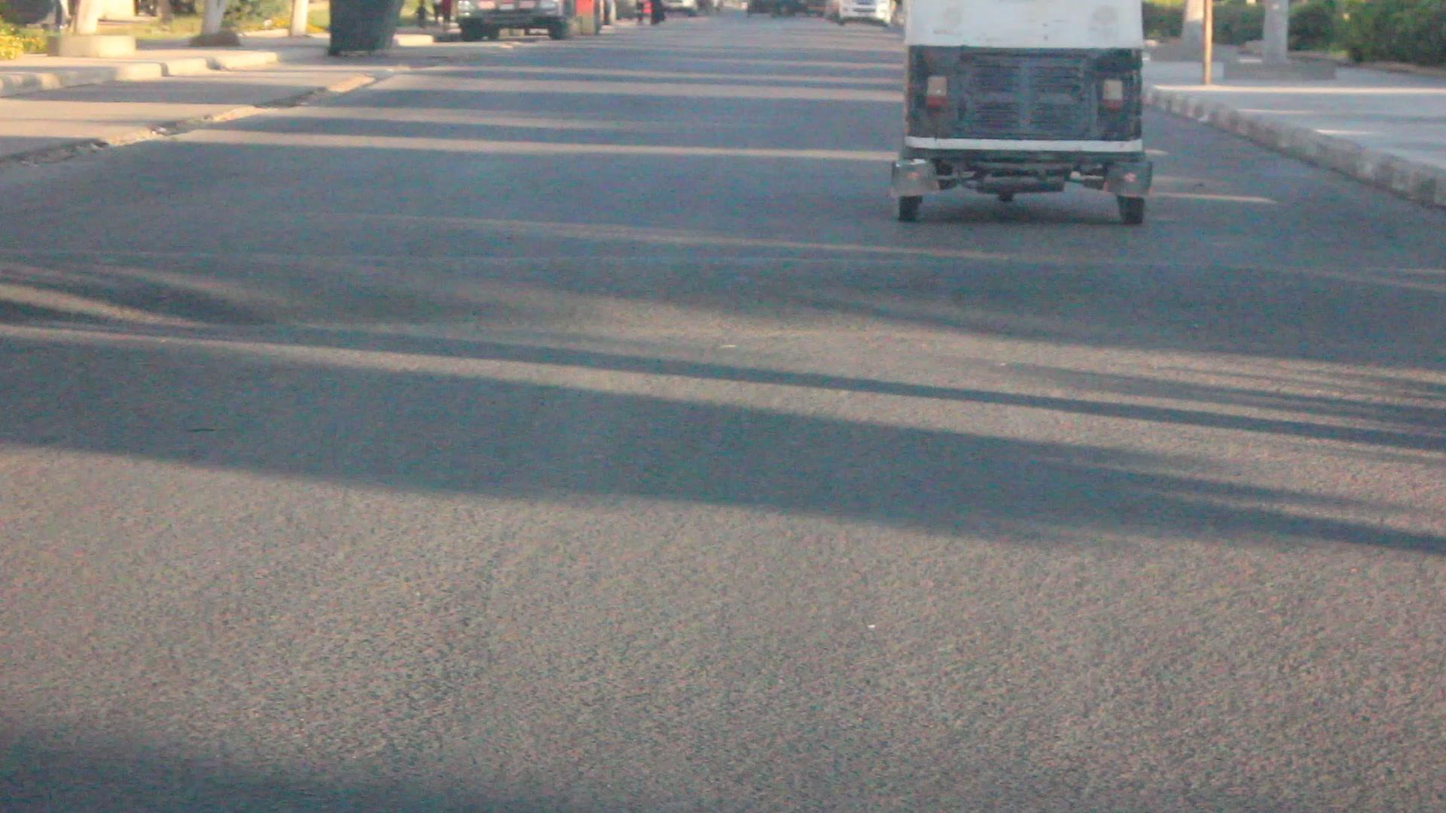Bump: (4, 256, 1446, 359)
